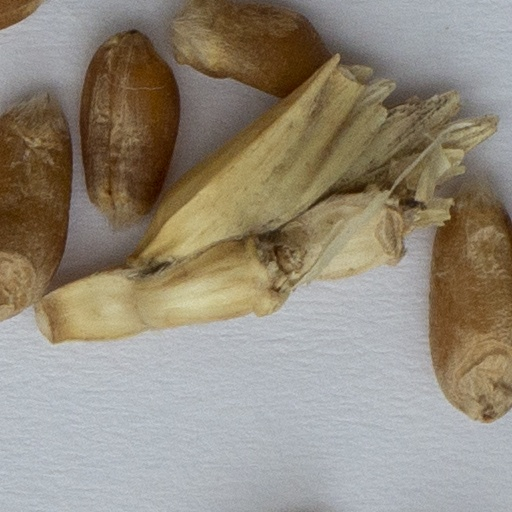Peel-poly: (40, 57, 495, 341)
